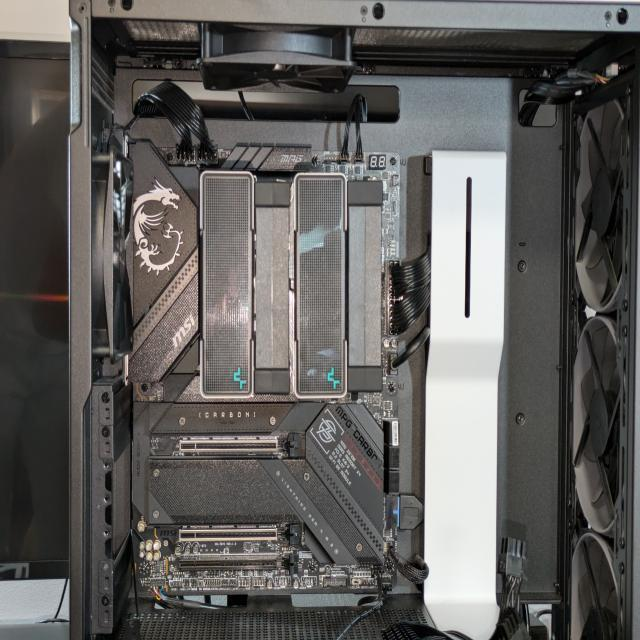CPU_Fan: (200, 170, 382, 400)
Mainboard: (129, 143, 401, 594)
